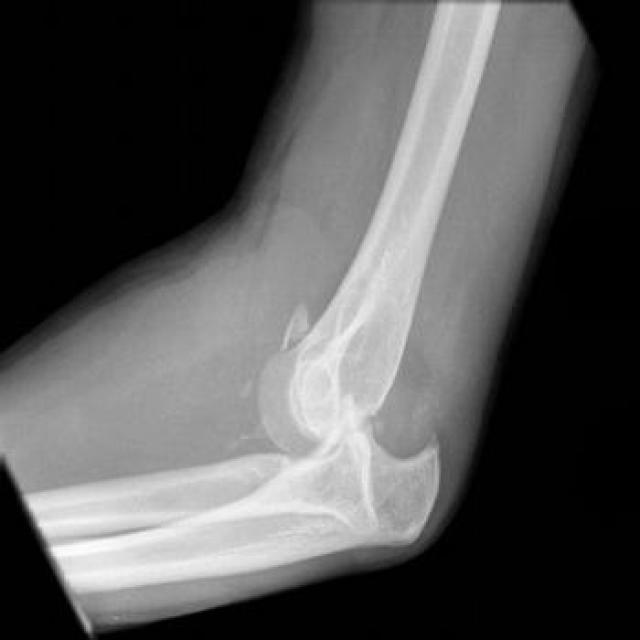Fracture: (369, 346, 450, 486)
